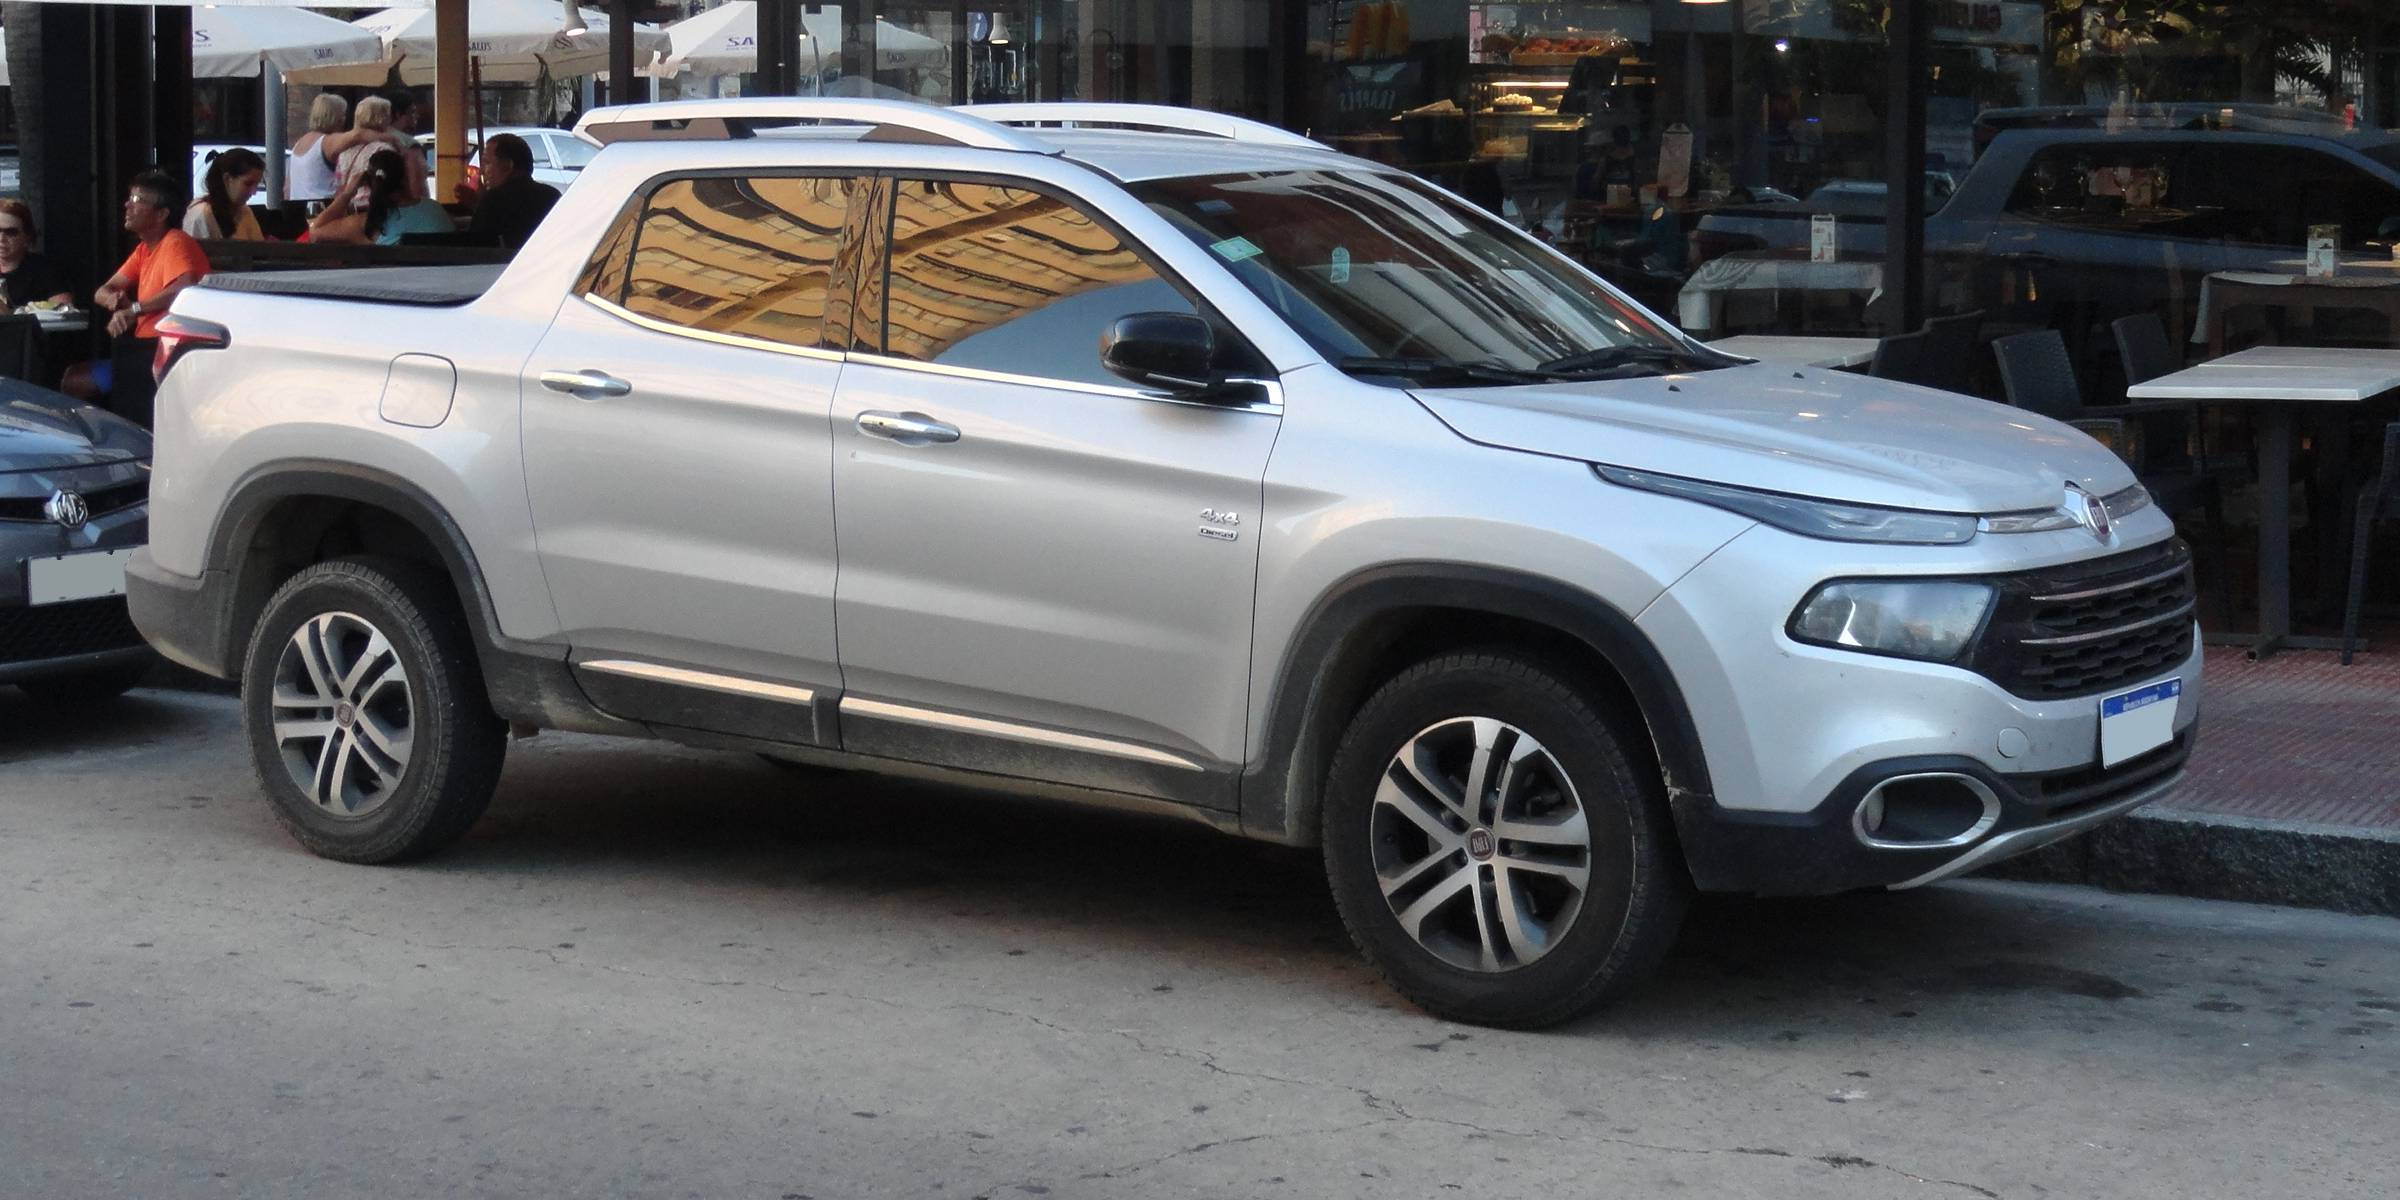car: (139, 93, 2213, 1003)
